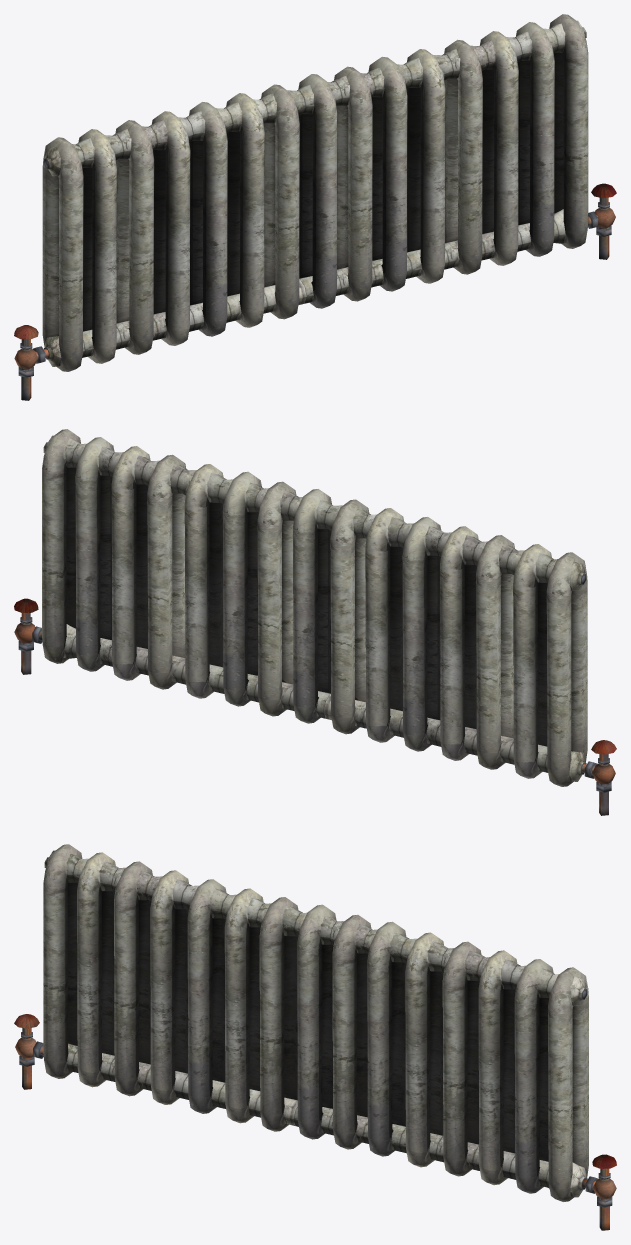
The model's file is Radiator.obj.
3 renders of one model, top to bottom at view 1: azimuth 30°, elevation 25°; view 2: azimuth 150°, elevation 25°; view 3: azimuth 330°, elevation 25°, orthographic.
Parts seen in each view (by area): view 1: OBJ_Radiator_Med; view 2: OBJ_Radiator_Med; view 3: OBJ_Radiator_Med.
Boxes of the visible parts, <box> form: OBJ_Radiator_Med: <box>14,14,616,400</box>; OBJ_Radiator_Med: <box>14,429,616,815</box>; OBJ_Radiator_Med: <box>14,844,616,1230</box>.
Size of the model in its own units: 311 by 124 by 27.39.
Materials: 1 (1 with a texture image).
